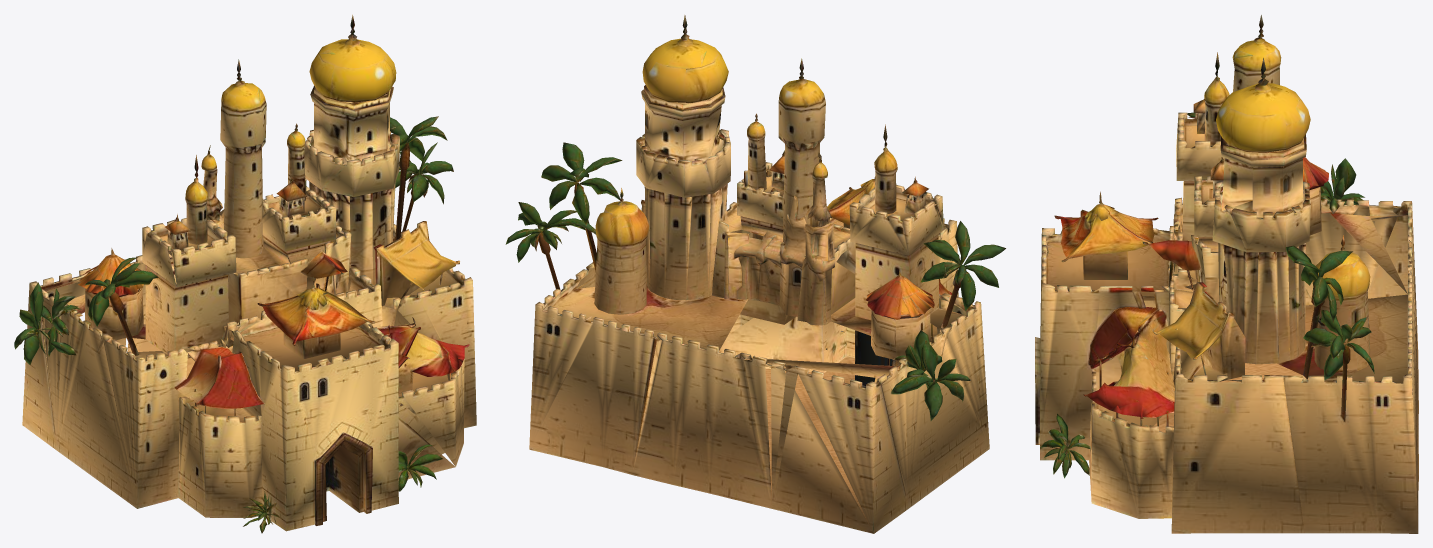
The model's file is citta.glb.
3 views of the same model, side by side, from view 1: azimuth 30°, elevation 25°; view 2: azimuth 150°, elevation 25°; view 3: azimuth 270°, elevation 25° (orthographic). The views are drawn at different scales.
Size of the model in its own units: 0.9497 by 0.8281 by 0.6602.
1 material, 1 textured.
